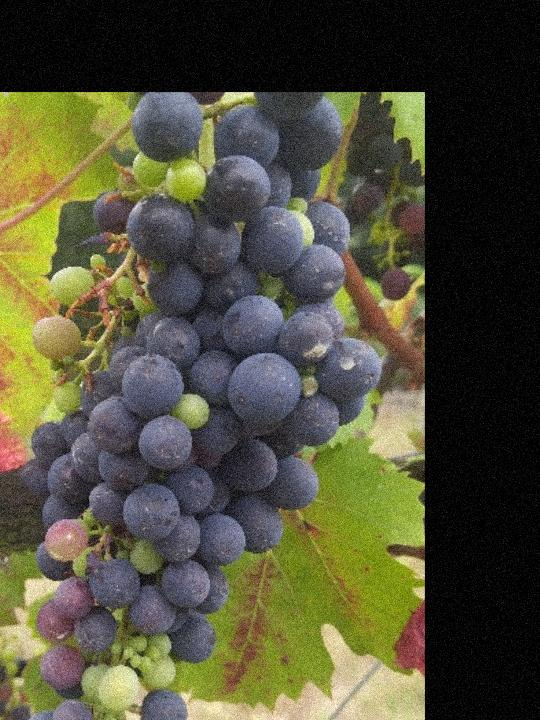grape: (31, 21, 383, 720), (0, 617, 46, 720)
